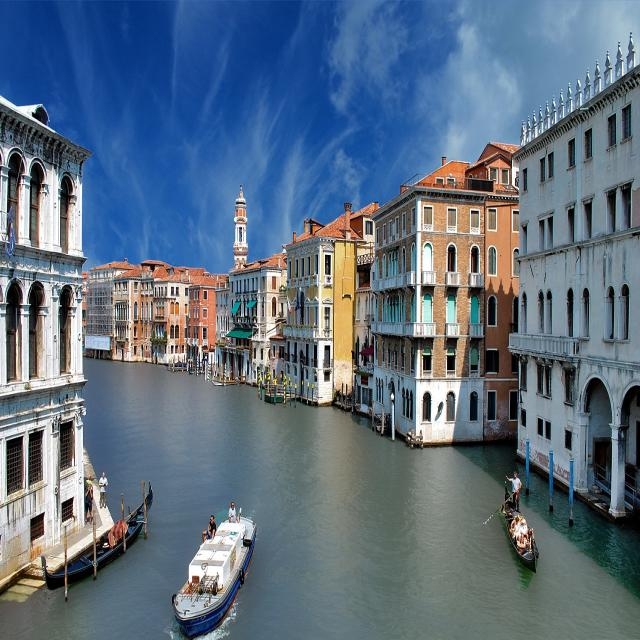boat: (33, 468, 170, 598), (170, 474, 263, 640), (498, 446, 554, 596)
